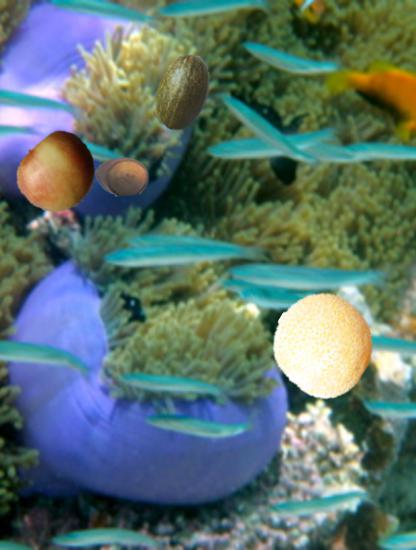Apple: (16, 132, 99, 215)
Cantaloupe: (272, 294, 375, 397)
Hazelnut: (95, 149, 150, 204)
Melon: (144, 53, 223, 132)
